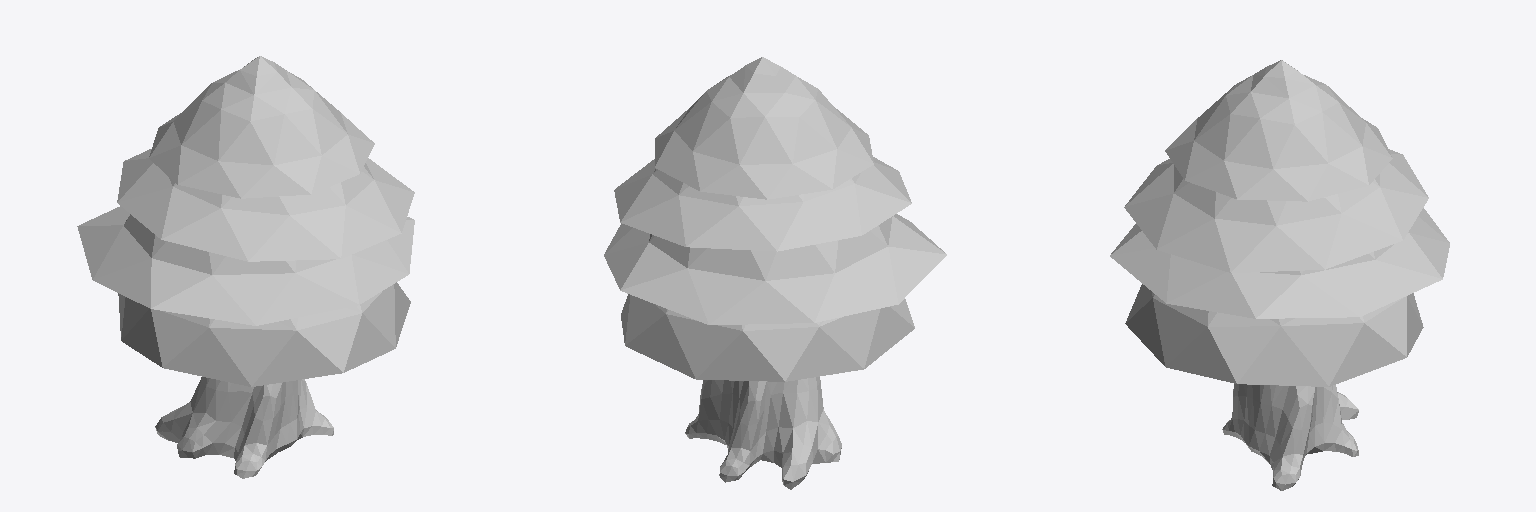
The model's file is treetoonstylized01.obj.
3 views of the same model, side by side, from view 1: azimuth 30°, elevation 25°; view 2: azimuth 150°, elevation 25°; view 3: azimuth 270°, elevation 25° (orthographic).
Visible parts, largest first — view 1: TreeToonStylizedStyle01(Optimized)_Icosphere.004, TreeToonStylizedStyle01_Cylinder.001; view 2: TreeToonStylizedStyle01(Optimized)_Icosphere.004, TreeToonStylizedStyle01_Cylinder.001; view 3: TreeToonStylizedStyle01(Optimized)_Icosphere.004, TreeToonStylizedStyle01_Cylinder.001.
Part boxes in pixels (left/top/right/bottom): TreeToonStylizedStyle01(Optimized)_Icosphere.004: left=77, top=56, right=414, bottom=478; TreeToonStylizedStyle01_Cylinder.001: left=78, top=144, right=411, bottom=477; TreeToonStylizedStyle01(Optimized)_Icosphere.004: left=604, top=57, right=946, bottom=481; TreeToonStylizedStyle01_Cylinder.001: left=607, top=166, right=946, bottom=489; TreeToonStylizedStyle01(Optimized)_Icosphere.004: left=1110, top=60, right=1449, bottom=490; TreeToonStylizedStyle01_Cylinder.001: left=1111, top=151, right=1445, bottom=490.
Bounding box in the file's own units: 9.07 × 11.7 × 9.1.